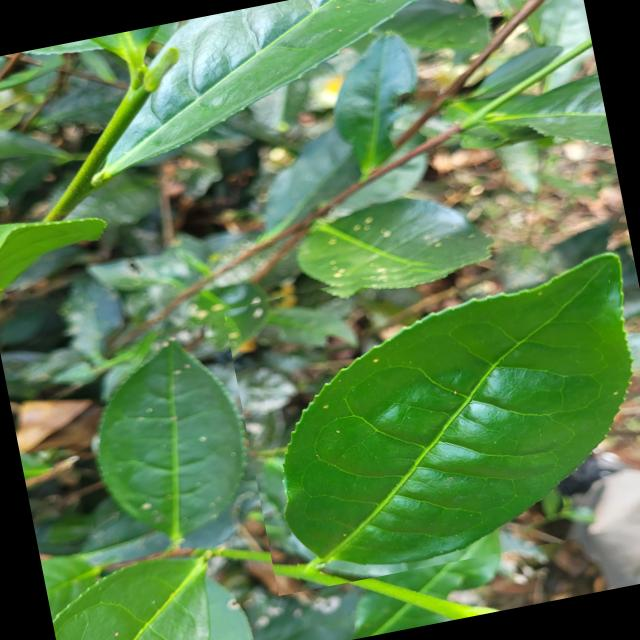Category D(7+ days, Not for Tea): (221, 220, 640, 596)
